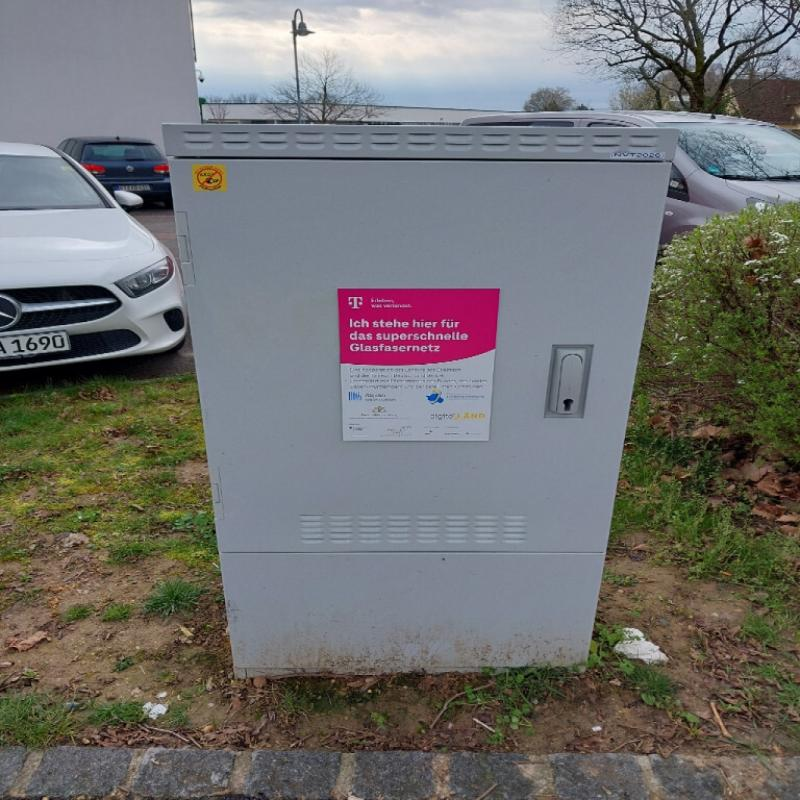NT-Gehause: (160, 124, 687, 678)
Steaker: (340, 286, 494, 444)
